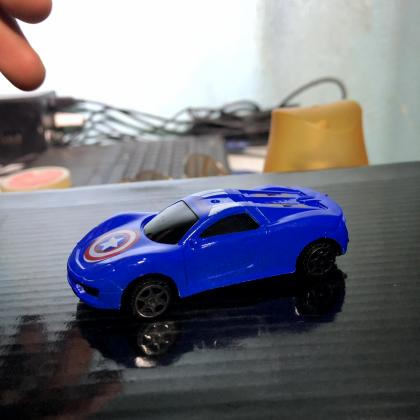Car: (59, 176, 354, 324)
